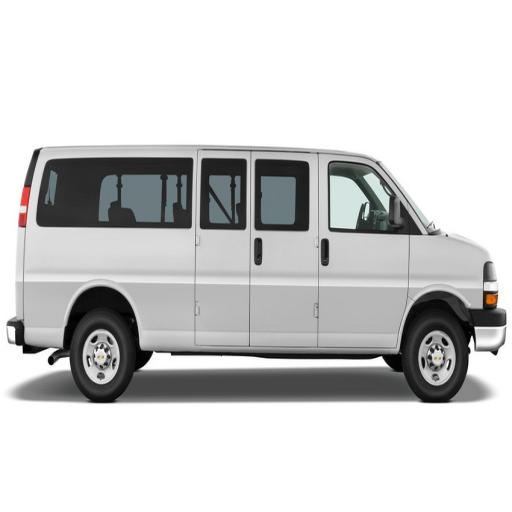van: (8, 145, 505, 402)
